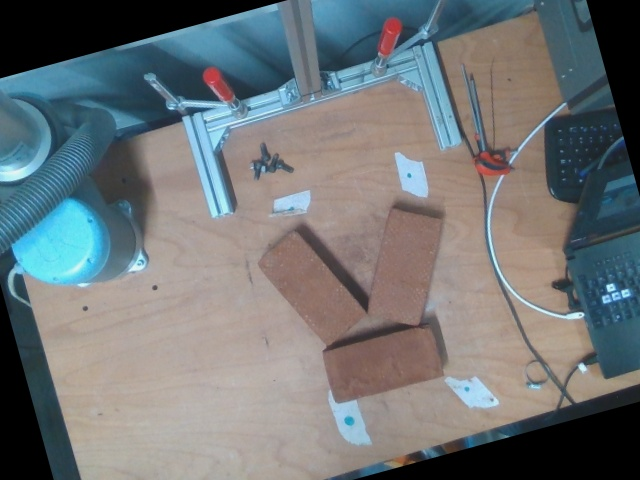brick: (256, 230, 363, 345), (326, 326, 443, 402), (370, 210, 442, 326)
